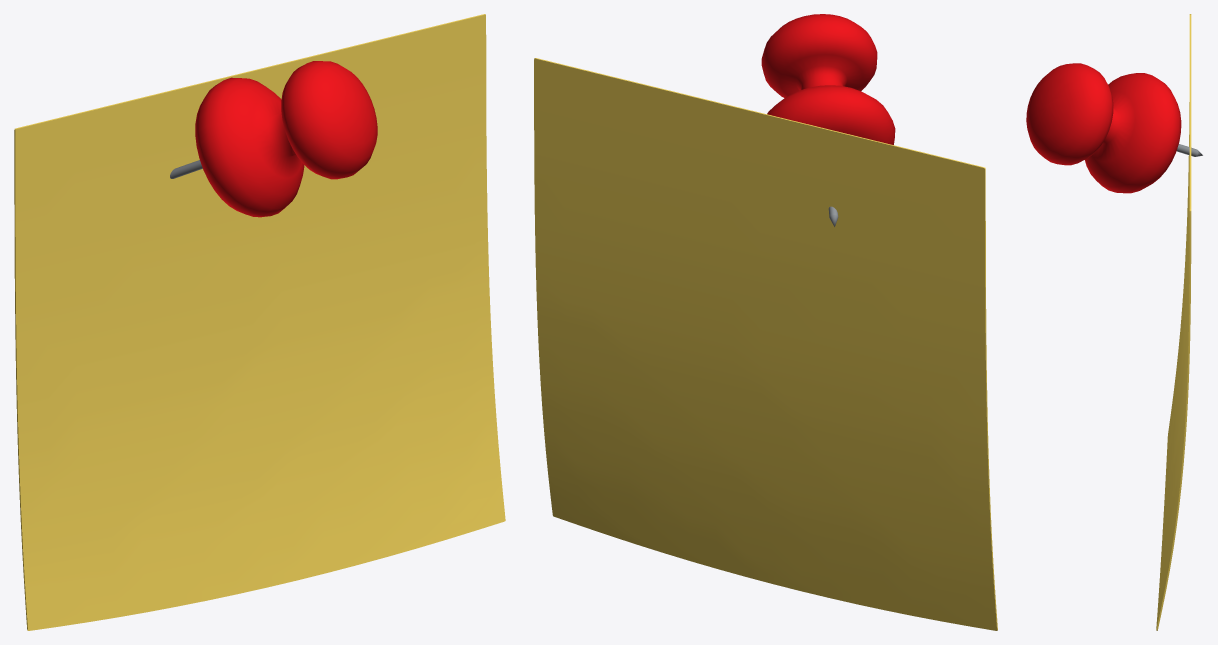
Rendered from post-it.glb.
3 views of the same model, side by side, from view 1: azimuth 30°, elevation 25°; view 2: azimuth 150°, elevation 25°; view 3: azimuth 270°, elevation 25° (orthographic). The views are drawn at different scales.
Parts seen in each view (by area): view 1: Single paper sheet__asset.001, Pushpin plastic body__asset.001; view 2: Single paper sheet__asset.001, Pushpin plastic body__asset.001; view 3: Pushpin plastic body__asset.001, Single paper sheet__asset.001.
Boxes of the visible parts, x1=… form: Single paper sheet__asset.001: x1=14, y1=14, x2=505, y2=630; Pushpin plastic body__asset.001: x1=195, y1=61, x2=377, y2=217; Single paper sheet__asset.001: x1=534, y1=58, x2=997, y2=630; Pushpin plastic body__asset.001: x1=761, y1=14, x2=895, y2=144; Pushpin plastic body__asset.001: x1=1026, y1=63, x2=1181, y2=193; Single paper sheet__asset.001: x1=1156, y1=14, x2=1191, y2=630.
Bounding box in the file's own units: 0.076 × 0.0859 × 0.029.
